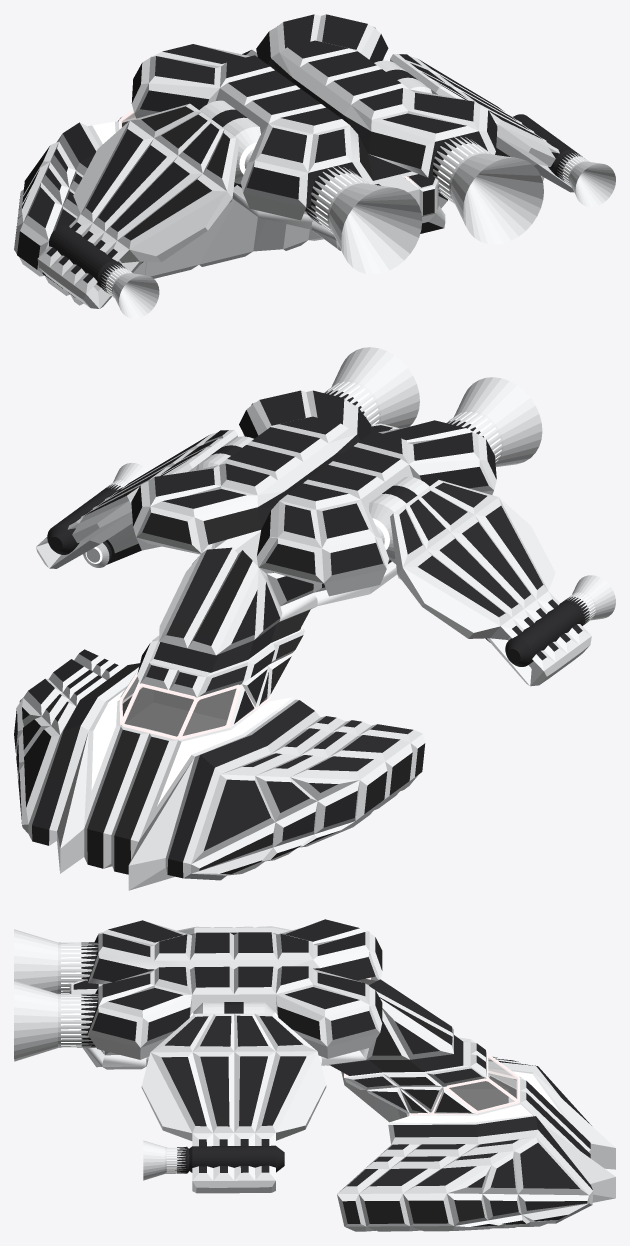
File: npcShip100.glb
3 views of the same model, one above another, from view 1: azimuth 30°, elevation 25°; view 2: azimuth 150°, elevation 25°; view 3: azimuth 270°, elevation 25° (orthographic). The views are drawn at different scales.
Parts seen in each view (by area): view 1: LAC-410_Body, LAC-410_Wing.L, LAC-410_BigEngine, LAC-410_Wing.R, LAC-410_SmallEngine.L, LAC-410_SmallEngine.R, LAC-410_WingHeader; view 2: LAC-410_Body, LAC-410_Wing.L, LAC-410_BigEngine, LAC-410_Wing.R, LAC-410_Glass, LAC-410_WingHeader, LAC-410_GlassCanvas, LAC-410_SmallEngine.L, LAC-410_UppaerArm.R; view 3: LAC-410_Body, LAC-410_Wing.R, LAC-410_BigEngine, LAC-410_Glass, LAC-410_SmallEngine.R, LAC-410_GlassCanvas, LAC-410_WingHeader, LAC-410_Wing.L.
Boxes of the visible parts, x1=… form: LAC-410_Body: x1=14, y1=14, x2=497, y2=305; LAC-410_Wing.L: x1=37, y1=103, x2=239, y2=308; LAC-410_BigEngine: x1=305, y1=136, x2=543, y2=274; LAC-410_Wing.R: x1=390, y1=54, x2=576, y2=192; LAC-410_SmallEngine.L: x1=100, y1=264, x2=159, y2=318; LAC-410_SmallEngine.R: x1=556, y1=152, x2=615, y2=206; LAC-410_WingHeader: x1=199, y1=60, x2=431, y2=184; LAC-410_Body: x1=14, y1=390, x2=496, y2=890; LAC-410_Wing.L: x1=390, y1=480, x2=591, y2=686; LAC-410_BigEngine: x1=324, y1=347, x2=542, y2=466; LAC-410_Wing.R: x1=36, y1=430, x2=237, y2=568; LAC-410_Glass: x1=122, y1=676, x2=236, y2=736; LAC-410_WingHeader: x1=196, y1=436, x2=429, y2=560; LAC-410_GlassCanvas: x1=119, y1=669, x2=268, y2=739; LAC-410_SmallEngine.L: x1=561, y1=575, x2=615, y2=625; LAC-410_UppaerArm.R: x1=83, y1=445, x2=241, y2=567; LAC-410_Body: x1=69, y1=919, x2=615, y2=1231; LAC-410_Wing.R: x1=141, y1=1013, x2=326, y2=1193; LAC-410_BigEngine: x1=14, y1=929, x2=98, y2=1061; LAC-410_Glass: x1=449, y1=1057, x2=517, y2=1110; LAC-410_SmallEngine.R: x1=143, y1=1140, x2=189, y2=1180; LAC-410_GlassCanvas: x1=409, y1=1053, x2=519, y2=1115; LAC-410_WingHeader: x1=190, y1=1002, x2=277, y2=1017; LAC-410_Wing.L: x1=177, y1=926, x2=291, y2=935.
Size of the model in its own units: 75.05 by 38.57 by 88.97.
2 materials, 1 textured.
